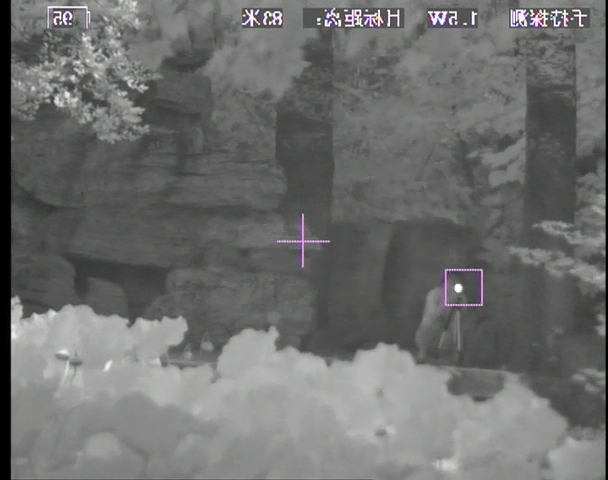my: (452, 282, 465, 295)
